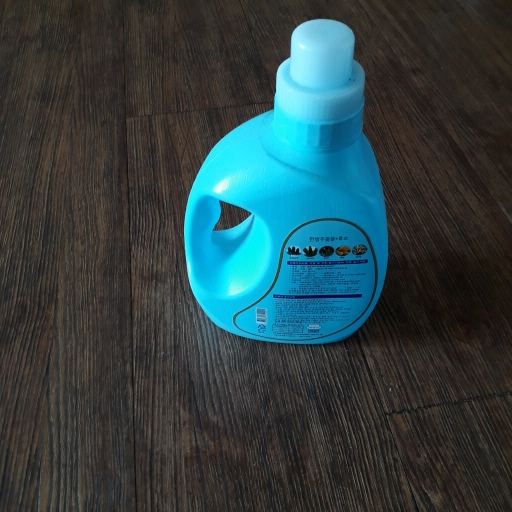Plastic_1: (174, 14, 391, 339)
